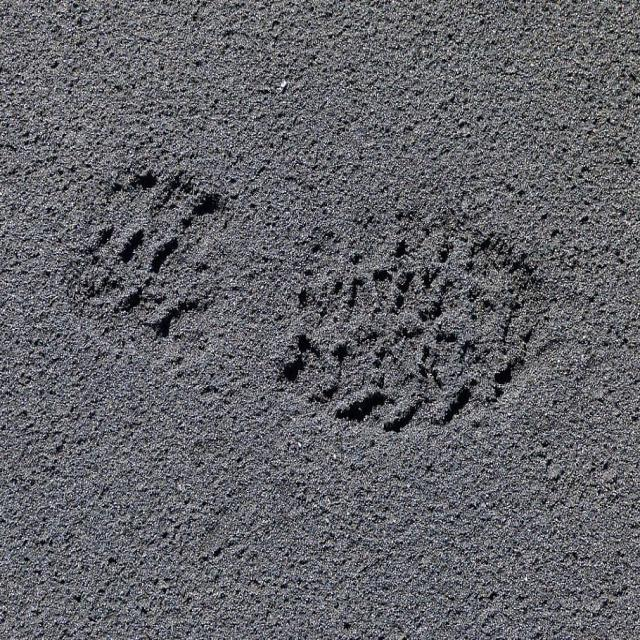human_foot_print: (35, 60, 609, 524)
